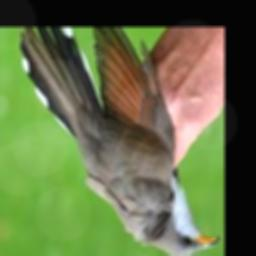Cuckoo: (19, 28, 220, 256)
